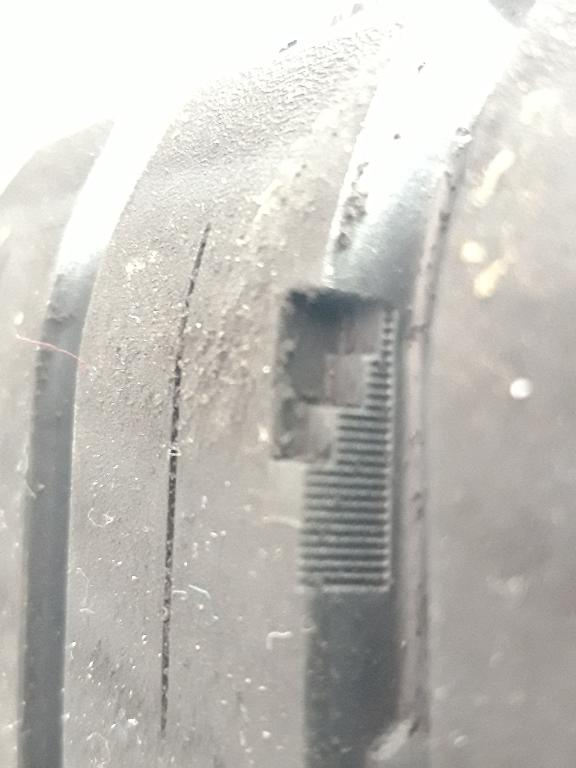temoin:75: (245, 264, 424, 543)
